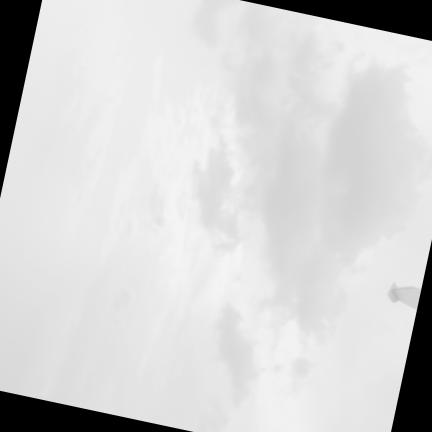Shahed: (387, 283, 421, 310)
